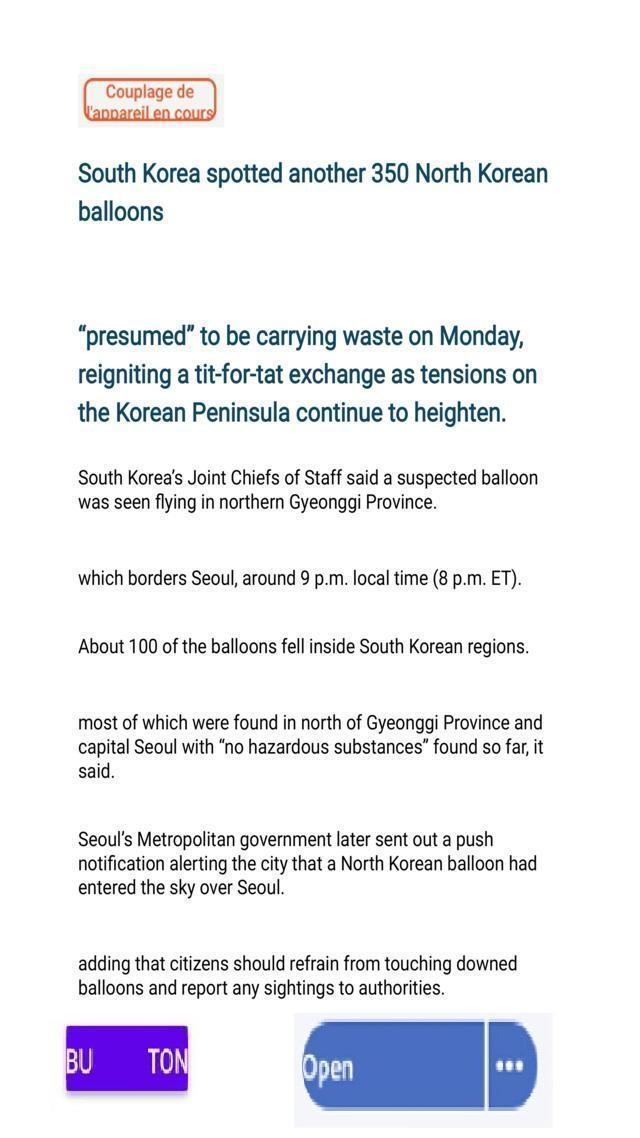Text: (71, 320, 530, 356), (72, 156, 552, 188), (72, 360, 540, 391), (72, 398, 510, 430), (71, 564, 527, 594), (72, 735, 550, 761), (71, 464, 542, 490), (67, 950, 526, 976), (72, 710, 550, 734), (73, 635, 530, 660), (74, 852, 542, 876), (69, 974, 448, 1002), (71, 490, 441, 518), (75, 828, 498, 852), (73, 877, 294, 899), (74, 195, 165, 228), (74, 763, 118, 785)
TextButton: (302, 1017, 540, 1110), (66, 1026, 189, 1092), (80, 76, 218, 122)
WS1: (65, 94, 105, 138), (167, 1047, 205, 1087), (197, 96, 232, 138), (57, 1047, 86, 1081)
